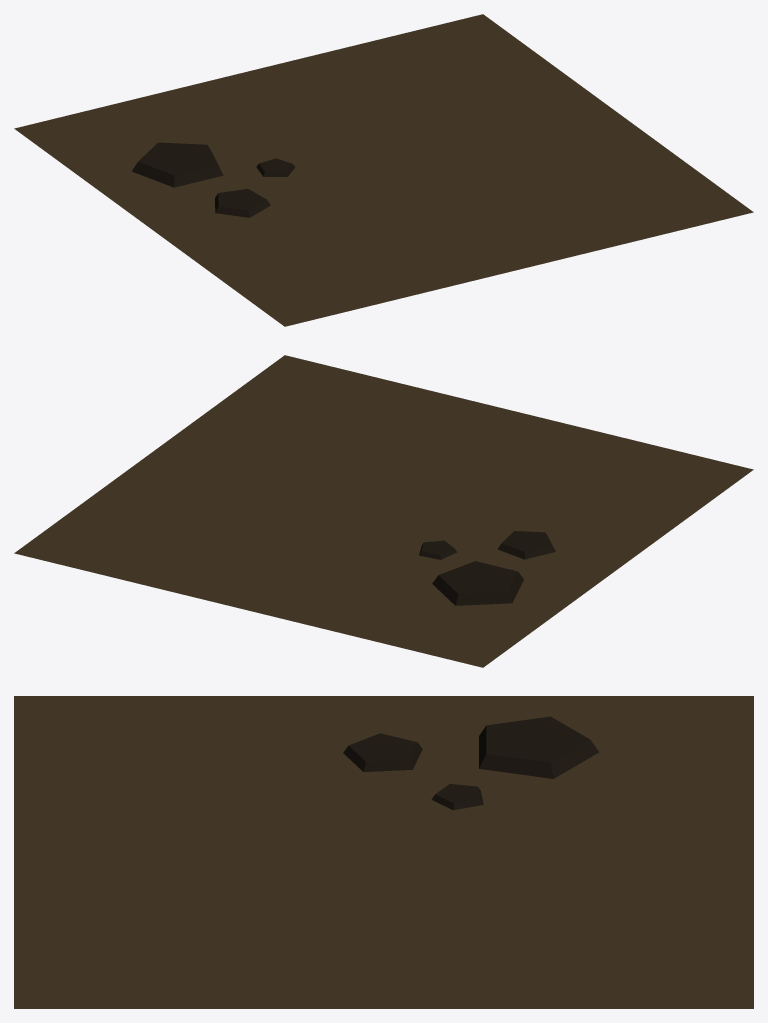
The model's file is Floor.003.fbx.
The picture shows the model from 3 angles, top to bottom: view 1: azimuth 30°, elevation 25°; view 2: azimuth 150°, elevation 25°; view 3: azimuth 270°, elevation 25°; orthographic projection. The views are drawn at different scales.
Parts seen in each view (by area): view 1: Floor.003; view 2: Floor.003; view 3: Floor.003.
Part boxes in pixels (x1,y1,x2,y2): Floor.003: (14, 14, 753, 326); Floor.003: (14, 355, 753, 667); Floor.003: (14, 696, 753, 1008).
Size of the model in its own units: 100 by 3.78 by 100.
